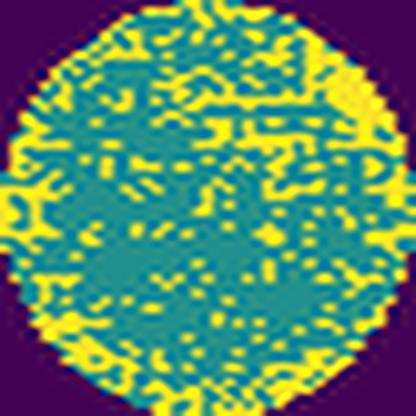Edge-Loc: (287, 25, 412, 162)
